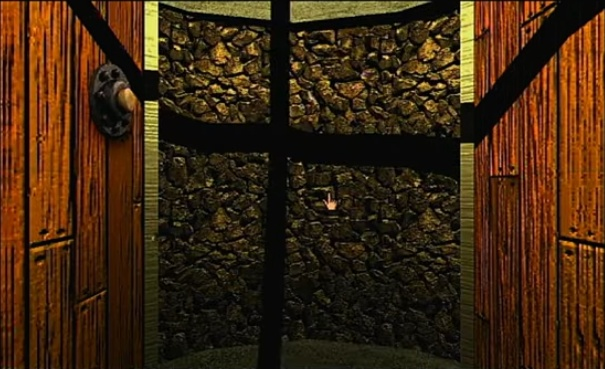Pointer: (320, 190, 342, 212)
